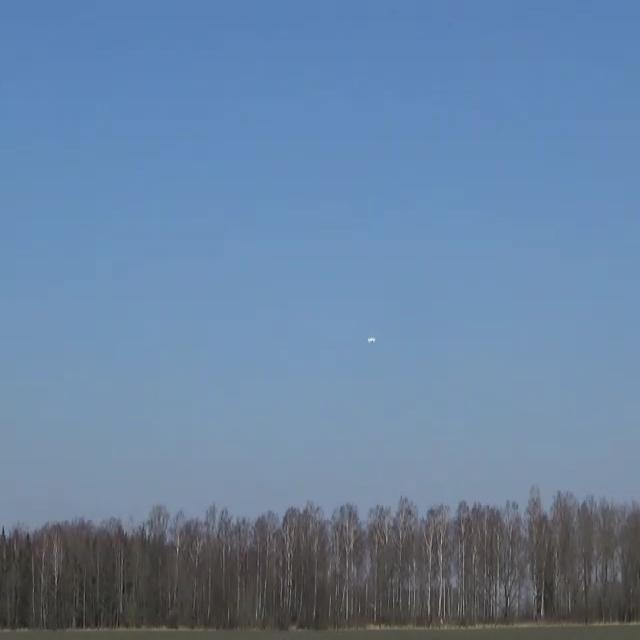Drone: (356, 325, 388, 354)
